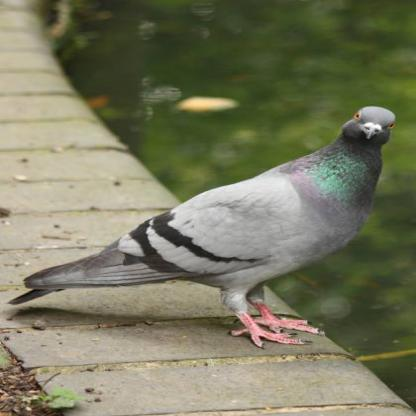Flying Rat: (5, 104, 404, 360)
